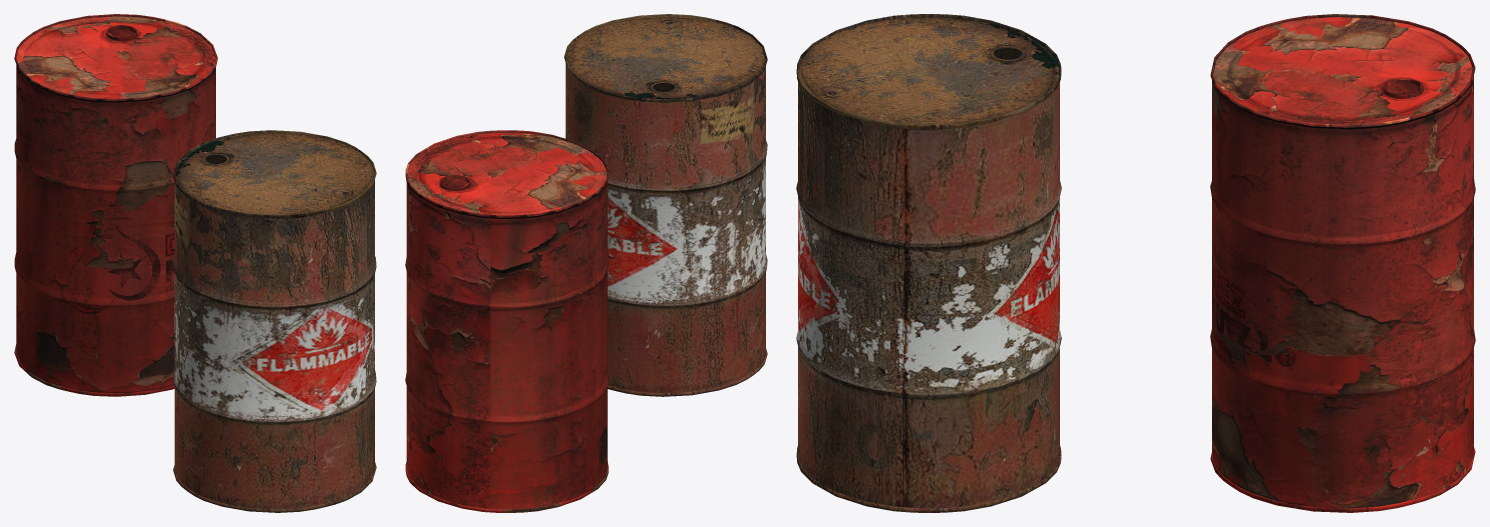
3 views of the same model, side by side, from view 1: azimuth 30°, elevation 25°; view 2: azimuth 150°, elevation 25°; view 3: azimuth 270°, elevation 25° (orthographic). The views are drawn at different scales.
Visible parts, largest first — view 1: Barrel, Barrel02; view 2: Barrel02, Barrel; view 3: Barrel, Barrel02.
Part boxes in pixels (x1,y1,x2,y2): Barrel: (173,130,376,512); Barrel02: (14,14,217,396); Barrel02: (405,130,608,512); Barrel: (564,14,767,396); Barrel: (796,14,1061,512); Barrel02: (1210,14,1475,512).
Bounding box in the file's own units: 68.59 × 111 × 175.
Materials: 2 (2 with a texture image).
